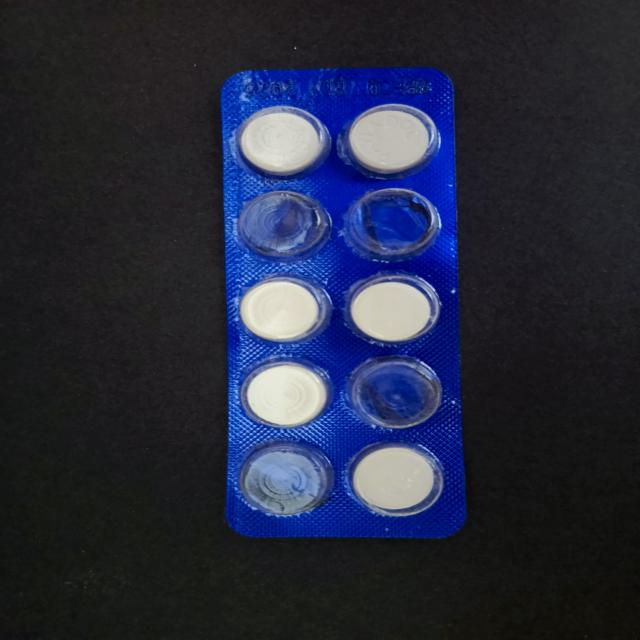defect: (235, 438, 339, 520), (343, 356, 447, 432), (233, 187, 336, 262), (343, 187, 445, 259)
